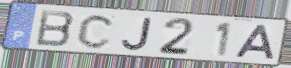1: (214, 21, 232, 58)
2: (159, 17, 197, 57)
A: (231, 23, 277, 61)
B: (34, 8, 77, 48)
C: (75, 13, 118, 50)
J: (120, 16, 154, 52)
